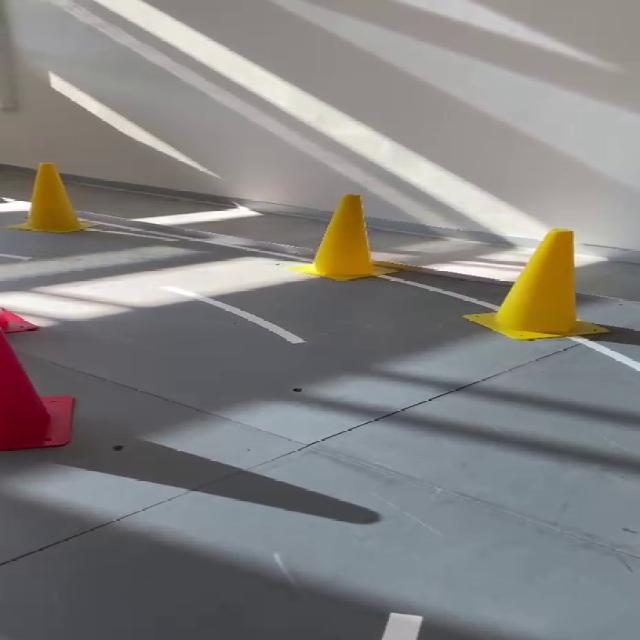Cone-red: (1, 308, 73, 451)
Cones-yellow: (465, 229, 608, 339), (290, 195, 410, 280), (12, 164, 86, 232)
